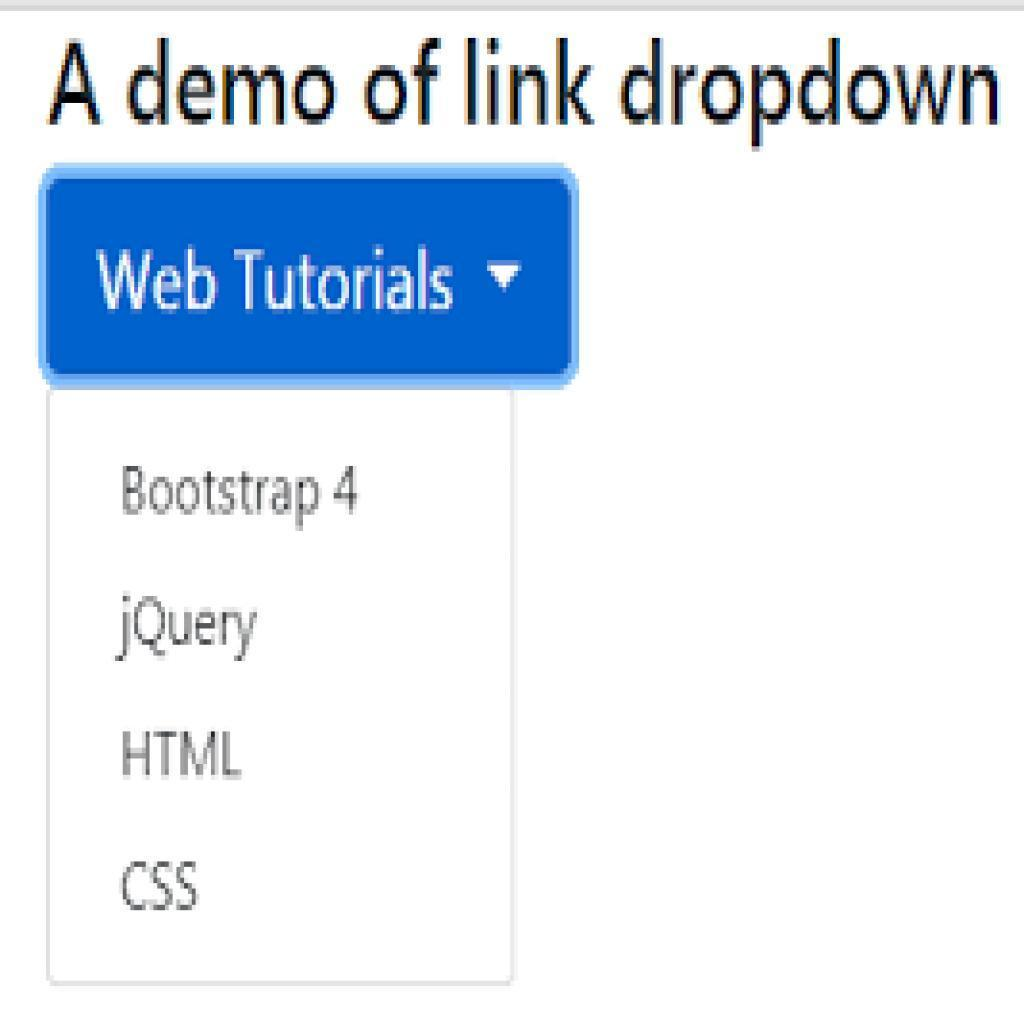dropdown: (48, 175, 573, 382)
